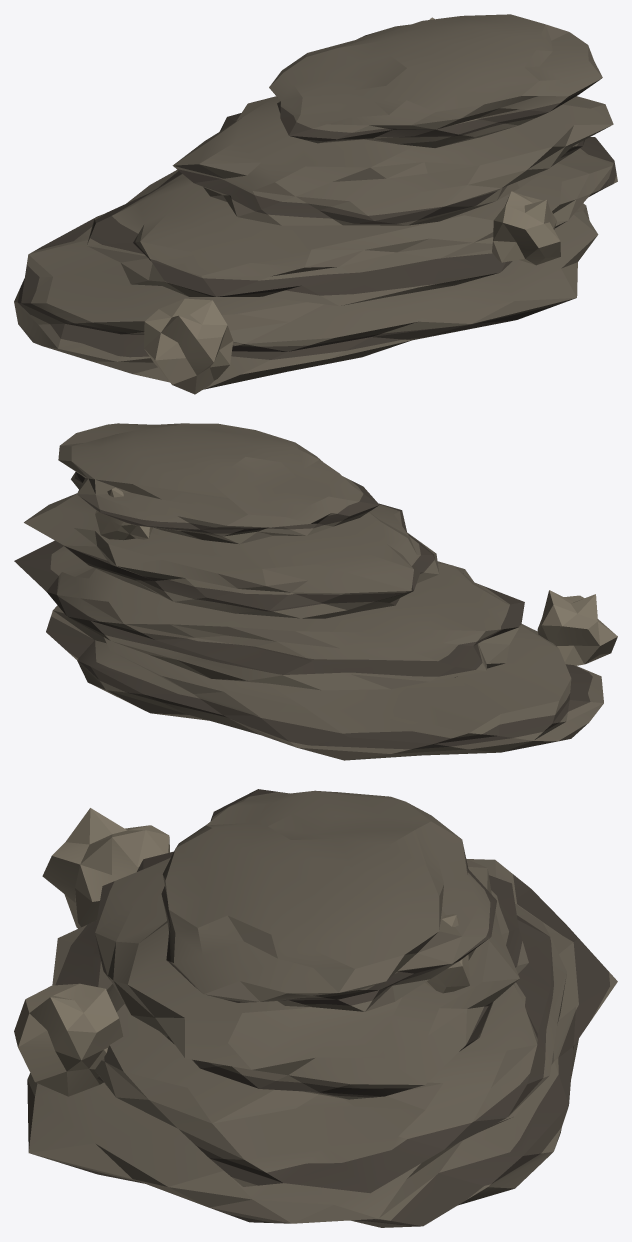
The model's file is stepped_fracture_shelf_lod0.glb.
3 renders of one model, top to bottom at view 1: azimuth 30°, elevation 25°; view 2: azimuth 150°, elevation 25°; view 3: azimuth 270°, elevation 25°, orthographic. The views are drawn at different scales.
Parts seen in each view (by area): view 1: LOD0_Stone, LOD0_Stone_strata, LOD0_Stone_cut; view 2: LOD0_Stone, LOD0_Stone_strata, LOD0_Stone_cut; view 3: LOD0_Stone, LOD0_Stone_strata, LOD0_Stone_cut.
Boxes of the visible parts, x1,y1,x2,y2 form: LOD0_Stone: [14, 14, 617, 389]; LOD0_Stone_strata: [18, 33, 616, 359]; LOD0_Stone_cut: [144, 17, 560, 394]; LOD0_Stone: [24, 423, 603, 760]; LOD0_Stone_strata: [14, 472, 592, 749]; LOD0_Stone_cut: [95, 487, 617, 665]; LOD0_Stone: [27, 790, 617, 1227]; LOD0_Stone_strata: [55, 789, 609, 1226]; LOD0_Stone_cut: [14, 808, 475, 1096].
Bounding box in the file's own units: 3.78 × 1.37 × 2.39.
